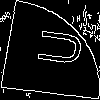U: (25, 24, 85, 69)
